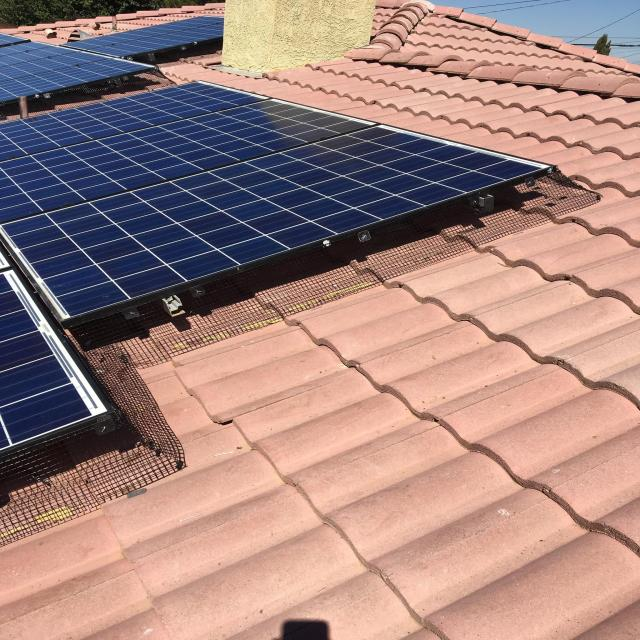clean-solar-panel: (0, 82, 552, 325)
